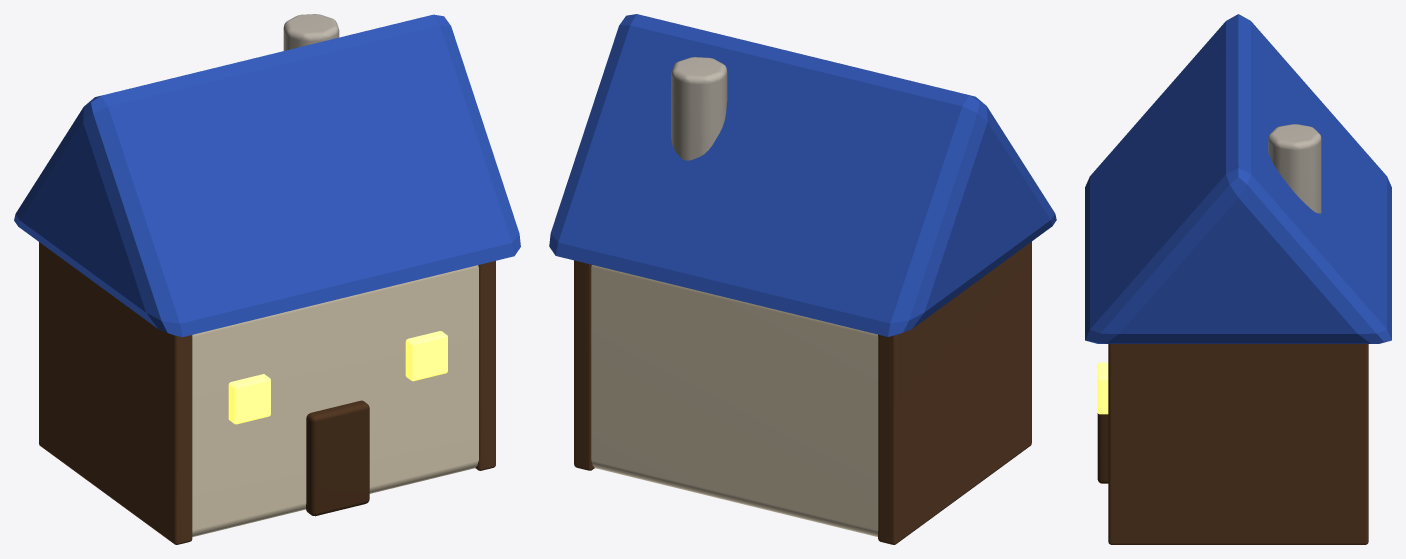
The model's file is house_blue.glb.
The picture shows the model from 3 angles, left to right: view 1: azimuth 30°, elevation 25°; view 2: azimuth 150°, elevation 25°; view 3: azimuth 270°, elevation 25°; orthographic projection. The views are drawn at different scales.
Parts seen in each view (by area): view 1: roof, house, beam, door, beam.001, win.001, win, chimney; view 2: roof, house, beam, chimney, beam.001; view 3: roof, beam.001, chimney, door, win.001.
Boxes of the visible parts, <box> form: roof: <box>14,14,520,337</box>; house: <box>192,265,478,536</box>; beam: <box>39,242,192,544</box>; door: <box>306,400,369,516</box>; beam.001: <box>475,261,495,470</box>; win.001: <box>405,331,447,381</box>; win: <box>228,374,270,424</box>; chimney: <box>283,14,339,50</box>; roof: <box>549,14,1056,336</box>; house: <box>591,265,878,536</box>; beam: <box>878,241,1031,544</box>; chimney: <box>671,57,727,160</box>; beam.001: <box>574,260,594,470</box>; roof: <box>1085,14,1391,343</box>; beam.001: <box>1108,344,1368,544</box>; chimney: <box>1268,124,1321,213</box>; door: <box>1097,413,1108,483</box>; win.001: <box>1097,362,1108,414</box>.
Size of the model in its own units: 0.5 by 0.5207 by 0.3809.
